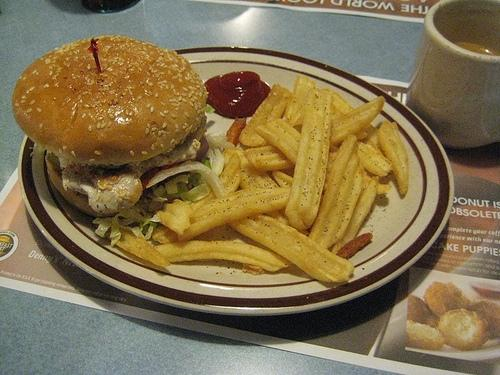lettuce: (146, 160, 227, 198), (181, 149, 224, 204), (93, 196, 163, 226), (164, 174, 190, 194), (146, 186, 176, 202), (206, 148, 216, 169), (193, 176, 206, 188), (206, 104, 216, 114)
